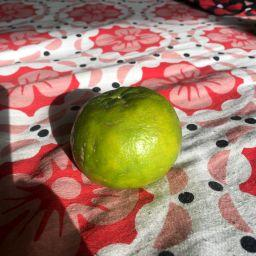Unripe: (73, 87, 180, 189)
